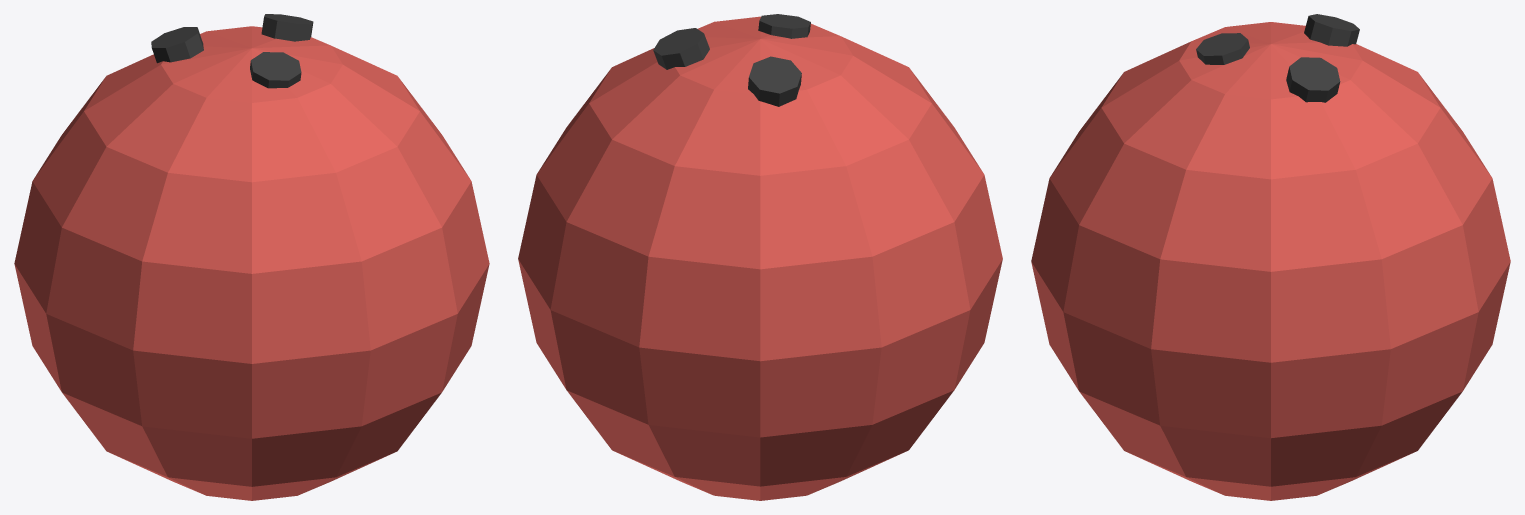
Rendered from Ball.glb.
3 views of the same model, side by side, from view 1: azimuth 30°, elevation 25°; view 2: azimuth 150°, elevation 25°; view 3: azimuth 270°, elevation 25° (orthographic). The views are drawn at different scales.
Parts seen in each view (by area): view 1: Ball, FingerHole2, FingerHole1, FingerHole0; view 2: Ball, FingerHole1, FingerHole0, FingerHole2; view 3: Ball, FingerHole0, FingerHole1, FingerHole2.
Boxes of the visible parts, x1=… form: Ball: x1=14, y1=26, x2=489, y2=500; FingerHole2: x1=250, y1=52, x2=301, y2=88; FingerHole1: x1=151, y1=27, x2=203, y2=63; FingerHole0: x1=261, y1=14, x2=313, y2=41; Ball: x1=518, y1=16, x2=1002, y2=500; FingerHole1: x1=748, y1=56, x2=801, y2=106; FingerHole0: x1=653, y1=28, x2=709, y2=69; FingerHole2: x1=758, y1=14, x2=810, y2=38; Ball: x1=1031, y1=22, x2=1510, y2=500; FingerHole0: x1=1286, y1=57, x2=1340, y2=102; FingerHole1: x1=1304, y1=14, x2=1359, y2=46; FingerHole2: x1=1196, y1=33, x2=1249, y2=64.
Size of the model in its own units: 0.216 by 0.2194 by 0.216.
